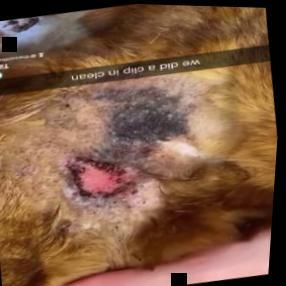skin_lesions: (64, 148, 143, 205)
